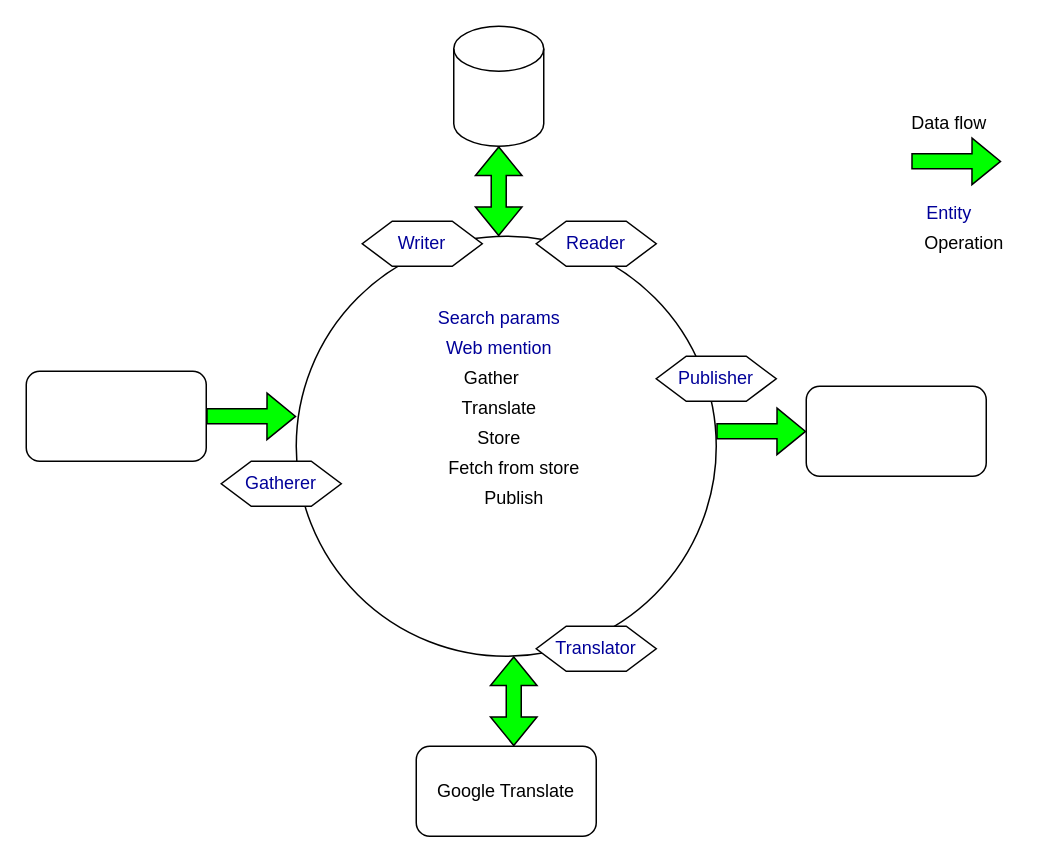
Some shapes in this 1050 by 863 pixel diagram are drawn without their labels. Here are the shapes that lost their labels. From the top down, the box of each, then its label:
(452, 25, 544, 146): DB
(25, 370, 206, 461): SERP API
(805, 385, 986, 476): Google sheets
